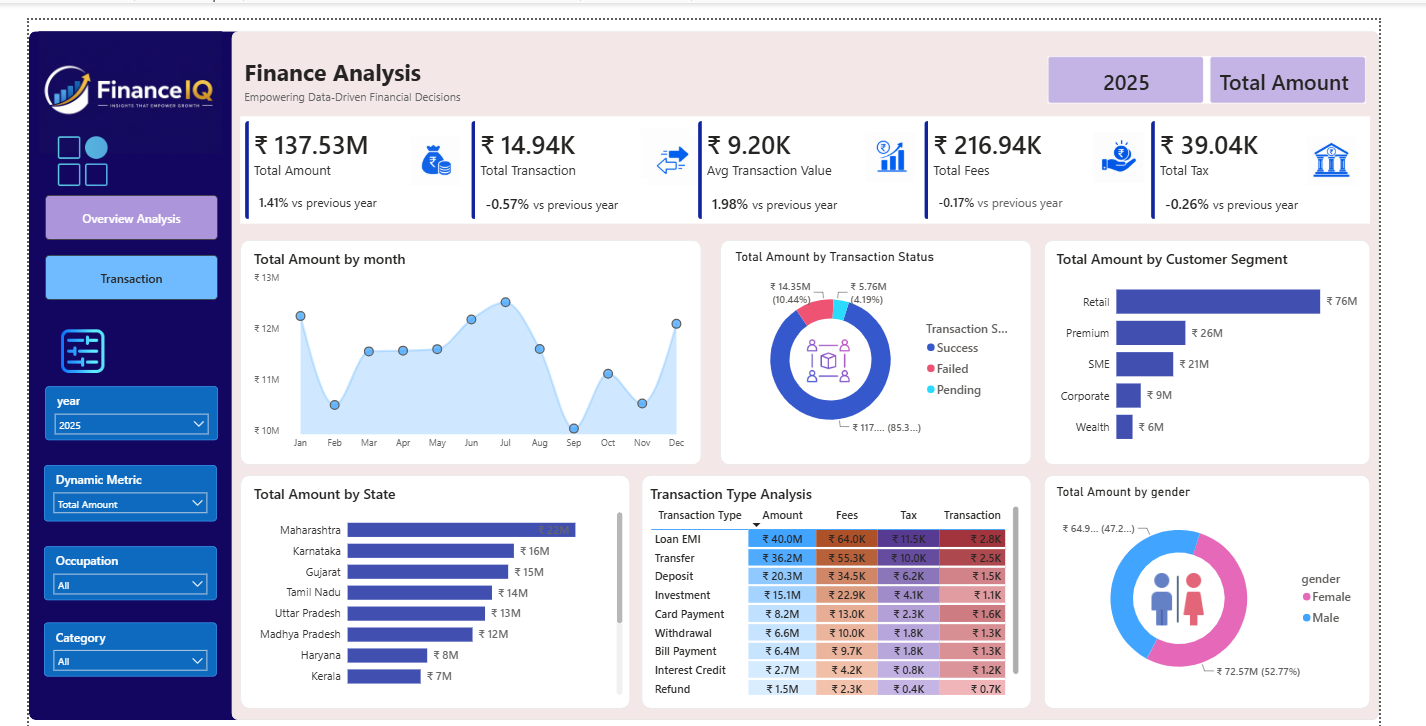

Layout of this report page (visuals, bound fields, positions):
{"tool":"powerbi","page":{"name":"Overview Analysis","canvas":[1800,950],"ordinal":0},"visuals":[{"type":"shape","box":[0,15,285,918.3],"z":0},{"type":"shape","box":[270,15,1530,918.3],"z":1000},{"type":"image","box":[0,15,270,163.3],"z":2000},{"type":"cardVisual","fields":{"Data":["finance_transactions.Dashboard Title"]},"box":[270,15,488.3,130],"z":3000},{"type":"cardVisual","fields":{"Data":["finance_transactions.Total Amount","finance_transactions.Total Transaction","finance_transactions.Avg Transaction Value","finance_transactions.Total Fees","finance_transactions.Total Tax"]},"box":[281.7,128.3,1506.7,143.3],"z":4000},{"type":"slicer","fields":{"Values":["calender table.year"]},"box":[21.7,488.3,230,71.7],"z":5000},{"type":"image","box":[490,155,103.3,66.7],"z":6000},{"type":"image","box":[796.7,145,103.3,66.7],"z":7000},{"type":"image","box":[1096.7,150,103.3,66.7],"z":8000},{"type":"image","box":[806.7,155,103.3,66.7],"z":9000},{"type":"image","box":[1401.7,150,103.3,66.7],"z":10000},{"type":"image","box":[1685,155,103.3,66.7],"z":11000},{"type":"slicer","fields":{"Values":["Dynamic Metric.Dynamic Metric"]},"box":[20,593.3,230,75],"z":12000},{"type":"shape","box":[281.7,293.3,615,300],"z":13000},{"type":"areaChart","fields":{"Y":["finance_transactions.Total Amount"],"Category":["calender table.month"]},"box":[295,305,591.7,276.7],"z":14000},{"type":"cardVisual","fields":{"Data":["finance_transactions.Selected Year","finance_transactions.Selected Dynamic"]},"box":[1353.3,43.3,435,73.3],"z":15000},{"type":"shape","box":[921.7,293.3,415,300],"z":16000},{"type":"donutChart","fields":{"Y":["finance_transactions.Total Amount"],"Category":["finance_transactions.transaction_status"]},"box":[936.7,305,388.3,276.7],"z":17000},{"type":"shape","box":[1353.3,293.3,435,300],"z":18000},{"type":"barChart","fields":{"Y":["finance_transactions.Total Amount"],"Category":["customers.customer_segment"]},"box":[1365,305,411.7,276.7],"z":19000},{"type":"shape","box":[281.7,606.7,520,311.7],"z":20000},{"type":"barChart","fields":{"Y":["finance_transactions.Total Amount"],"Category":["customers.state"]},"box":[295,618.3,501.7,286.7],"z":21000},{"type":"shape","box":[816.7,606.7,520,311.7],"z":22000},{"type":"tableEx","title":"Transaction Type Analysis","fields":{"Values":["finance_transactions.transaction_type","finance_transactions.Total Amount","finance_transactions.Total Fees","finance_transactions.Total Tax","finance_transactions.Total Transaction"]},"box":[823.3,618.3,501.7,286.7],"z":23000},{"type":"shape","box":[1353.3,606.7,435,311.7],"z":24000},{"type":"donutChart","fields":{"Y":["finance_transactions.Total Amount"],"Category":["customers.gender"]},"box":[1365,618.3,411.7,286.7],"z":25000},{"type":"image","box":[1491.7,726.7,80,91.7],"z":26000},{"type":"image","box":[1035,408.3,61.7,91.7],"z":27000},{"type":"slicer","fields":{"Values":["customers.occupation"]},"box":[20,701.7,230,71.7],"z":28000},{"type":"slicer","fields":{"Values":["finance_transactions.merchant_category"]},"box":[20,803.3,230,71.7],"z":29000},{"type":"pageNavigator","box":[21.7,233.3,230,141.7],"z":29001},{"type":"image","box":[20,408.3,103.3,66.7],"z":29002},{"type":"image","box":[20,155,103.3,66.7],"z":29003}]}

Visuals, with their boxes on the page's 1800x950 design canvas (x1, y1, x2, y2). These are canvas units, not pixel positions in the 1426x726 screenshot, which may show the page scaled, cropped or inside an application window:
shape: {"left": 0, "top": 15, "right": 285, "bottom": 933}
shape: {"left": 270, "top": 15, "right": 1800, "bottom": 933}
image: {"left": 0, "top": 15, "right": 270, "bottom": 178}
cardVisual - finance_transactions.Dashboard Title: {"left": 270, "top": 15, "right": 758, "bottom": 145}
cardVisual - finance_transactions.Total Amount x finance_transactions.Total Transaction: {"left": 282, "top": 128, "right": 1788, "bottom": 272}
slicer - calender table.year: {"left": 22, "top": 488, "right": 252, "bottom": 560}
image: {"left": 490, "top": 155, "right": 593, "bottom": 222}
image: {"left": 797, "top": 145, "right": 900, "bottom": 212}
image: {"left": 1097, "top": 150, "right": 1200, "bottom": 217}
image: {"left": 807, "top": 155, "right": 910, "bottom": 222}
image: {"left": 1402, "top": 150, "right": 1505, "bottom": 217}
image: {"left": 1685, "top": 155, "right": 1788, "bottom": 222}
slicer - Dynamic Metric.Dynamic Metric: {"left": 20, "top": 593, "right": 250, "bottom": 668}
shape: {"left": 282, "top": 293, "right": 897, "bottom": 593}
areaChart - finance_transactions.Total Amount x calender table.month: {"left": 295, "top": 305, "right": 887, "bottom": 582}
cardVisual - finance_transactions.Selected Year x finance_transactions.Selected Dynamic: {"left": 1353, "top": 43, "right": 1788, "bottom": 117}
shape: {"left": 922, "top": 293, "right": 1337, "bottom": 593}
donutChart - finance_transactions.Total Amount x finance_transactions.transaction_status: {"left": 937, "top": 305, "right": 1325, "bottom": 582}
shape: {"left": 1353, "top": 293, "right": 1788, "bottom": 593}
barChart - finance_transactions.Total Amount x customers.customer_segment: {"left": 1365, "top": 305, "right": 1777, "bottom": 582}
shape: {"left": 282, "top": 607, "right": 802, "bottom": 918}
barChart - finance_transactions.Total Amount x customers.state: {"left": 295, "top": 618, "right": 797, "bottom": 905}
shape: {"left": 817, "top": 607, "right": 1337, "bottom": 918}
"Transaction Type Analysis" tableEx: {"left": 823, "top": 618, "right": 1325, "bottom": 905}
shape: {"left": 1353, "top": 607, "right": 1788, "bottom": 918}
donutChart - finance_transactions.Total Amount x customers.gender: {"left": 1365, "top": 618, "right": 1777, "bottom": 905}
image: {"left": 1492, "top": 727, "right": 1572, "bottom": 818}
image: {"left": 1035, "top": 408, "right": 1097, "bottom": 500}
slicer - customers.occupation: {"left": 20, "top": 702, "right": 250, "bottom": 773}
slicer - finance_transactions.merchant_category: {"left": 20, "top": 803, "right": 250, "bottom": 875}
pageNavigator: {"left": 22, "top": 233, "right": 252, "bottom": 375}
image: {"left": 20, "top": 408, "right": 123, "bottom": 475}
image: {"left": 20, "top": 155, "right": 123, "bottom": 222}
